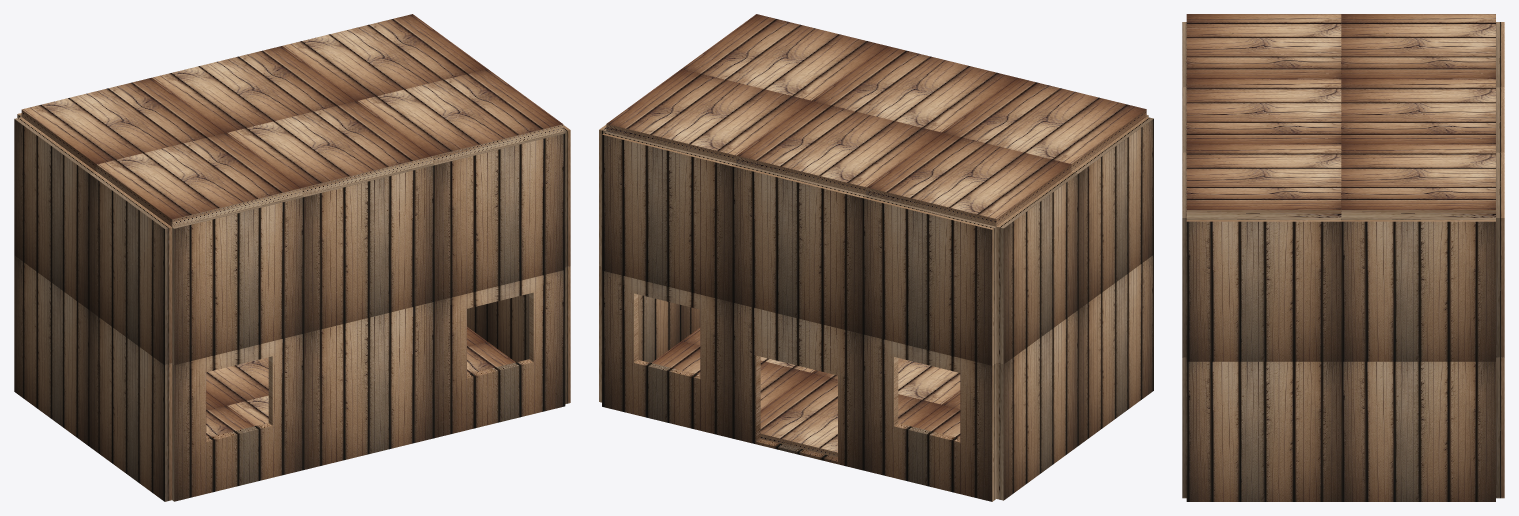
The model's file is BuildingV1.fbx.
3 views of the same model, side by side, from view 1: azimuth 30°, elevation 25°; view 2: azimuth 150°, elevation 25°; view 3: azimuth 270°, elevation 25° (orthographic). The views are drawn at different scales.
Parts seen in each view (by area): view 1: Cube; view 2: Cube; view 3: Cube.
Boxes of the visible parts, x1,y1,x2,y2 form: Cube: (14,14,570,501); Cube: (599,14,1153,501); Cube: (1182,14,1504,501).
Bounding box in the file's own units: 190 × 125 × 127.
